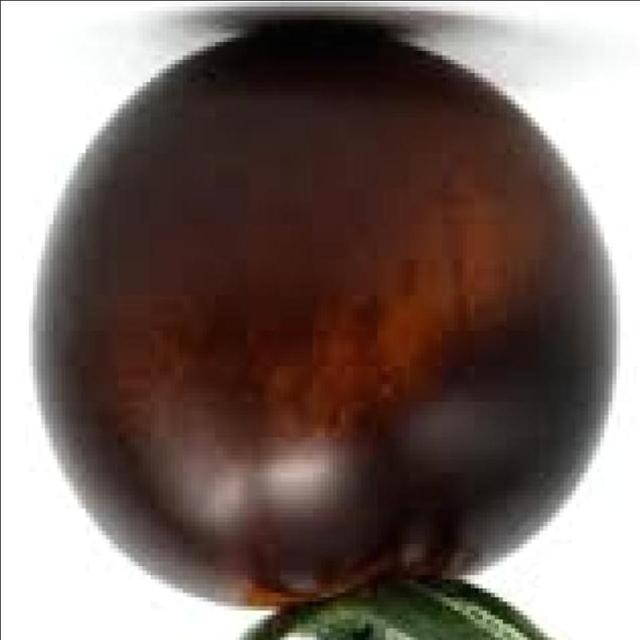Healthy Fruit: (19, 0, 424, 424)
